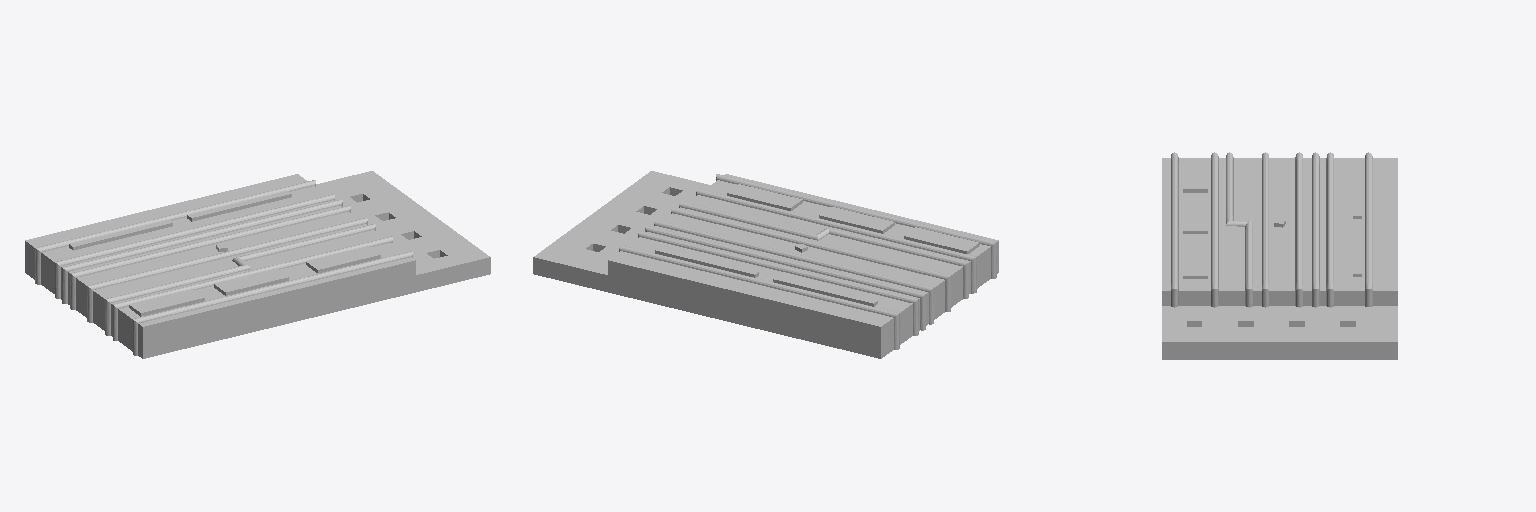
The model's file is HMCTest.obj.
3 renders of one model, left to right at view 1: azimuth 30°, elevation 25°; view 2: azimuth 150°, elevation 25°; view 3: azimuth 270°, elevation 25°, orthographic.
Bounding box in the file's own units: 131 × 12.72 × 76.2.